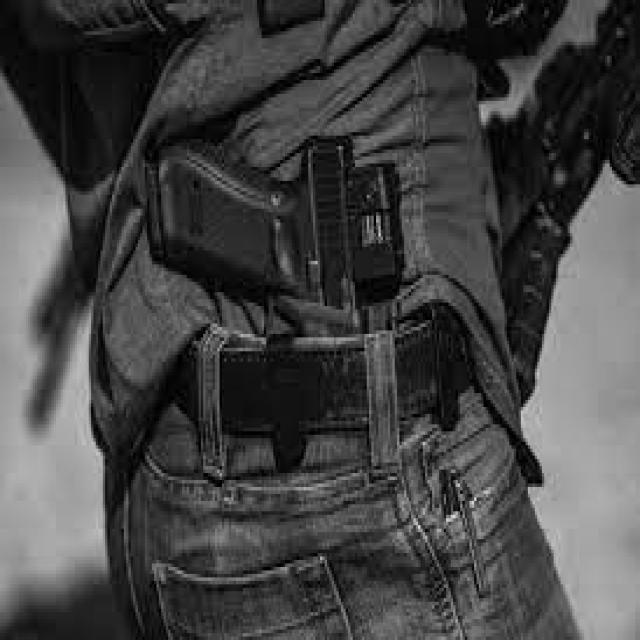weapons: (138, 109, 419, 420)
